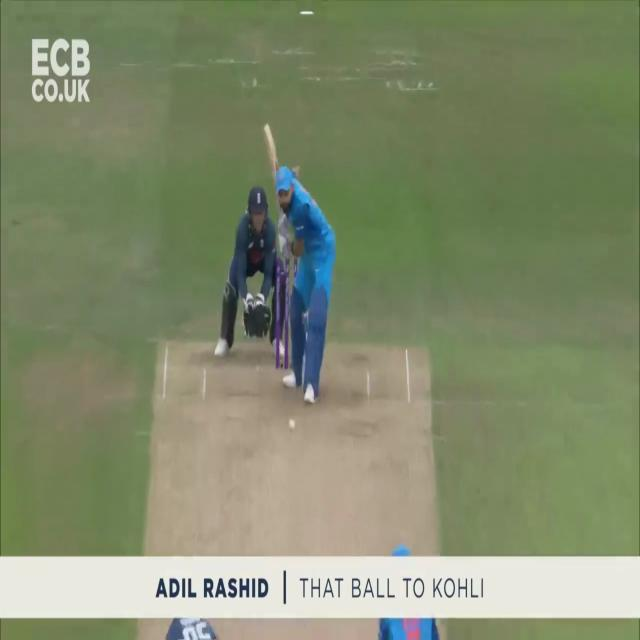cricketBall: (288, 419, 296, 433)
